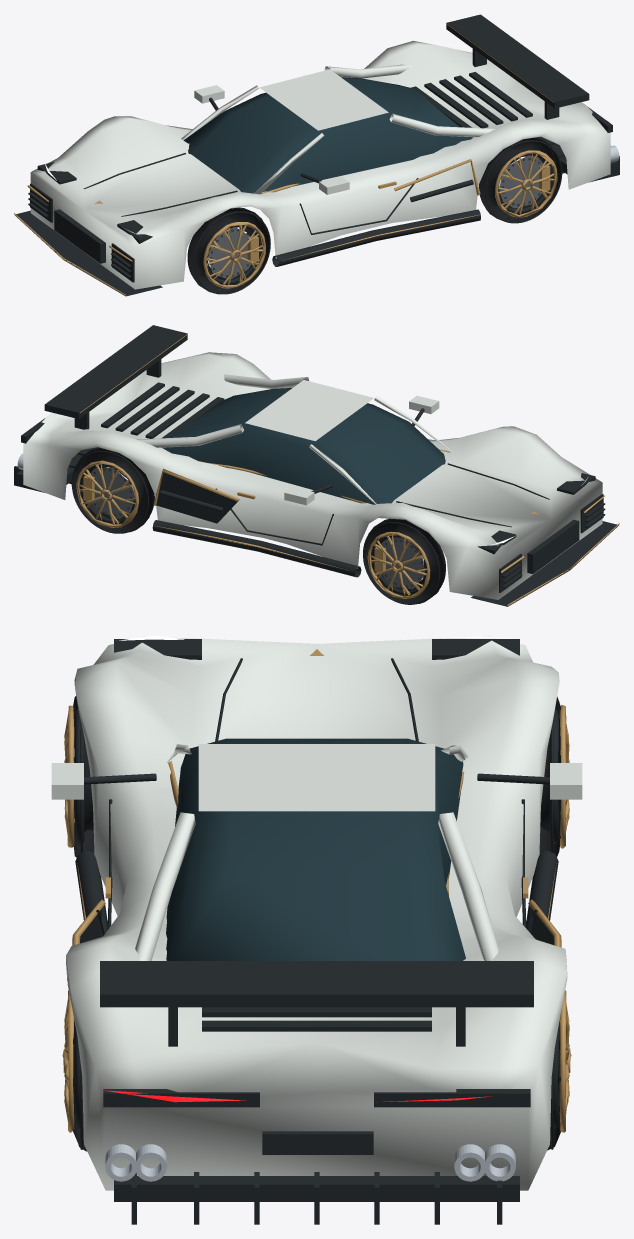
File: car3.glb
The picture shows the model from 3 angles, top to bottom: view 1: azimuth 30°, elevation 25°; view 2: azimuth 150°, elevation 25°; view 3: azimuth 270°, elevation 25°; orthographic projection. The views are drawn at different scales.
Parts seen in each view (by area): view 1: AURELIA | Sculpted monocoque coachwork, AURELIA | Deep side intake, AURELIA | Panoramic teardrop canopy, AURELIA | Canopy titanium surround, AURELIA | Sculpted performance tire, AURELIA | Carbon ceramic rotor; view 2: AURELIA | Sculpted monocoque coachwork, AURELIA | Deep side intake, AURELIA | Panoramic teardrop canopy, AURELIA | Canopy titanium surround, AURELIA | Sculpted performance tire, AURELIA | Carbon ceramic rotor; view 3: AURELIA | Sculpted monocoque coachwork, AURELIA | Deep side intake, AURELIA | Panoramic teardrop canopy, AURELIA | Canopy titanium surround, Cylinder.004, AURELIA | Sculpted performance tire, Cube.001.
Boxes of the visible parts, x1=… form: AURELIA | Sculpted monocoque coachwork: x1=30, y1=40, x2=610, y2=289; AURELIA | Deep side intake: x1=14, y1=14, x2=619, y2=296; AURELIA | Panoramic teardrop canopy: x1=183, y1=77, x2=473, y2=193; AURELIA | Canopy titanium surround: x1=14, y1=24, x2=557, y2=295; AURELIA | Sculpted performance tire: x1=188, y1=137, x2=560, y2=294; AURELIA | Carbon ceramic rotor: x1=208, y1=155, x2=542, y2=278; AURELIA | Sculpted monocoque coachwork: x1=23, y1=352, x2=602, y2=599; AURELIA | Deep side intake: x1=14, y1=325, x2=618, y2=606; AURELIA | Panoramic teardrop canopy: x1=161, y1=388, x2=445, y2=504; AURELIA | Canopy titanium surround: x1=76, y1=334, x2=619, y2=605; AURELIA | Sculpted performance tire: x1=72, y1=447, x2=445, y2=603; AURELIA | Carbon ceramic rotor: x1=90, y1=467, x2=425, y2=589; AURELIA | Sculpted monocoque coachwork: x1=51, y1=636, x2=582, y2=1190; AURELIA | Deep side intake: x1=62, y1=639, x2=571, y2=1224; AURELIA | Panoramic teardrop canopy: x1=166, y1=738, x2=465, y2=960; AURELIA | Canopy titanium surround: x1=63, y1=649, x2=570, y2=1132; Cylinder.004: x1=105, y1=1144, x2=515, y2=1181; AURELIA | Sculpted performance tire: x1=73, y1=696, x2=560, y2=1151; Cube.001: x1=262, y1=1131, x2=373, y2=1154.
Size of the model in its own units: 5.49 by 1.18 by 2.47.
